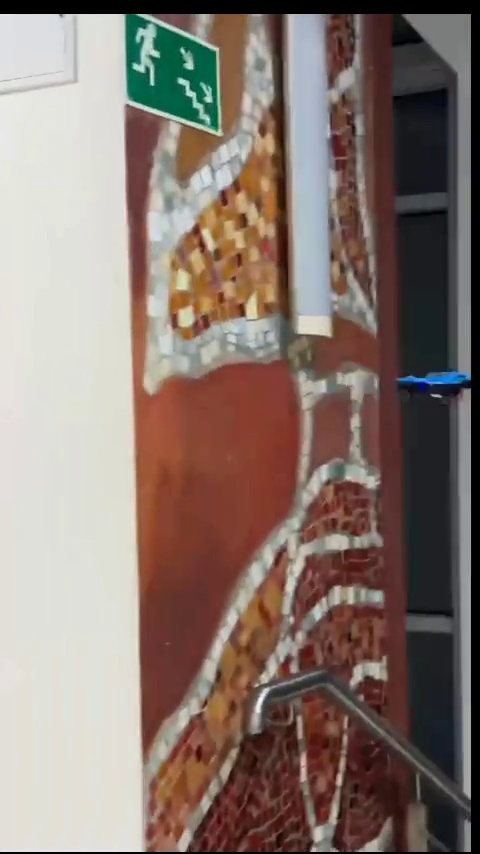drone: (397, 372, 477, 400)
